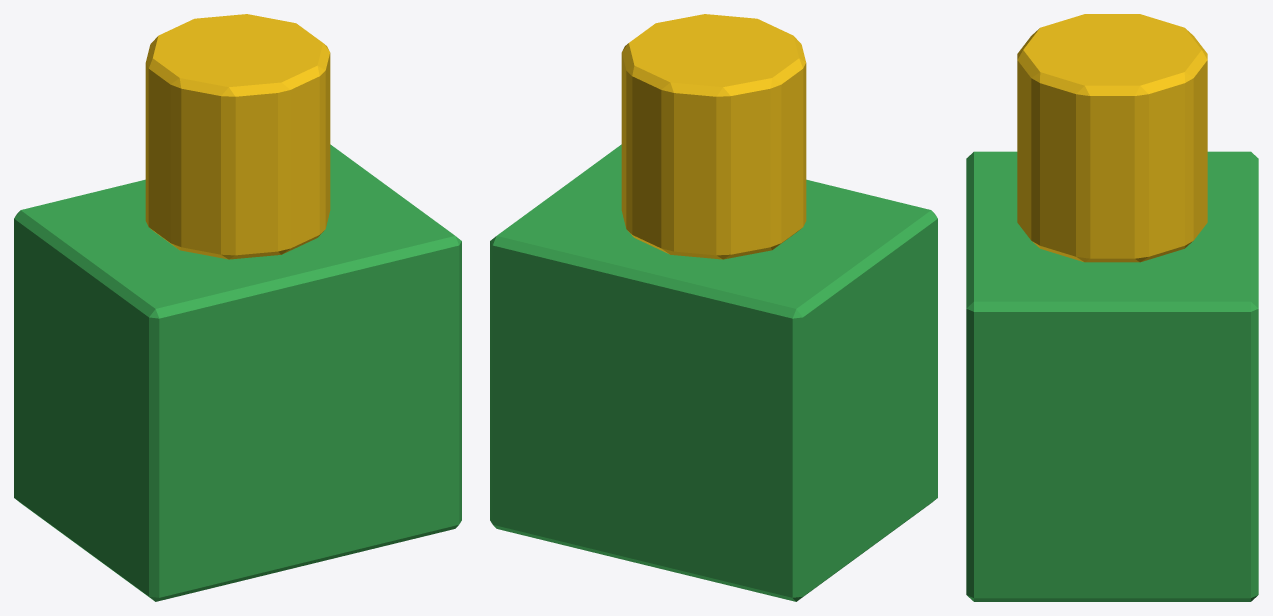
The model's file is power_generator.glb.
3 renders of one model, left to right at view 1: azimuth 30°, elevation 25°; view 2: azimuth 150°, elevation 25°; view 3: azimuth 270°, elevation 25°, orthographic. The views are drawn at different scales.
Parts seen in each view (by area): view 1: power_generator; view 2: power_generator; view 3: power_generator.
Part boxes in pixels (x1,y1,x2,y2): power_generator: [14, 14, 461, 601]; power_generator: [490, 14, 937, 601]; power_generator: [966, 14, 1258, 601].
Bounding box in the file's own units: 0.38 × 0.54 × 0.3.
